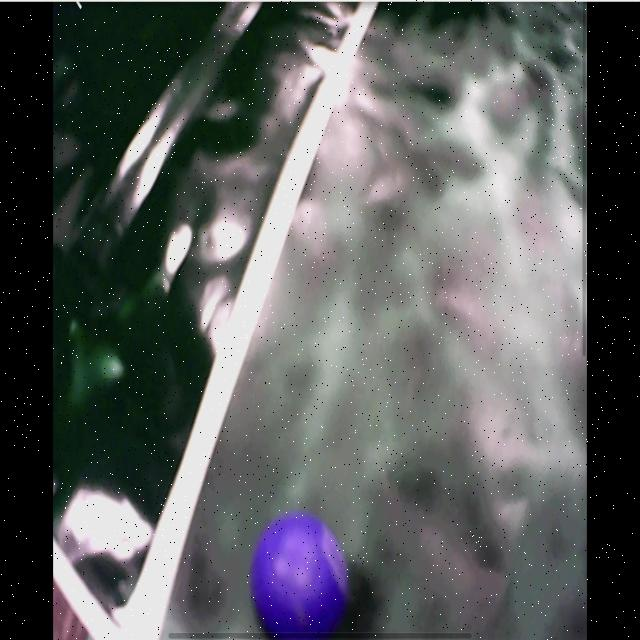ball: (253, 516, 348, 638)
